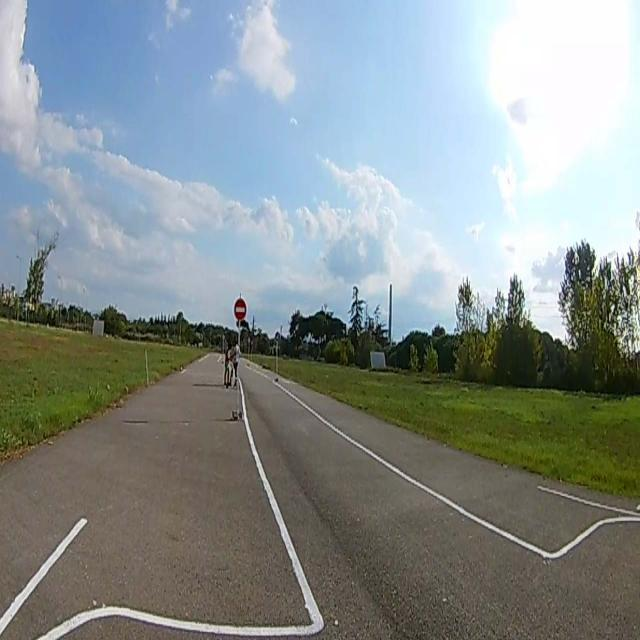girisyok: (234, 298, 246, 318)
